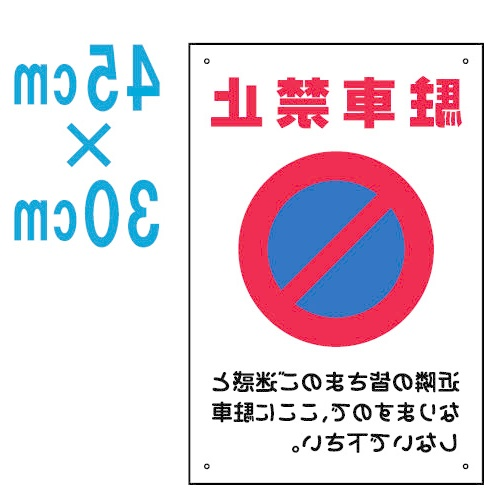Prohibition_sign: (224, 156, 446, 364)
